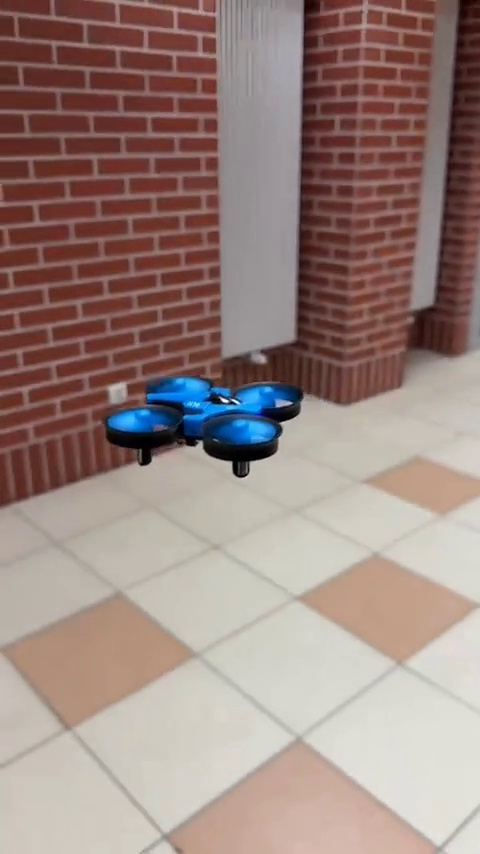drone: (95, 376, 307, 475)
